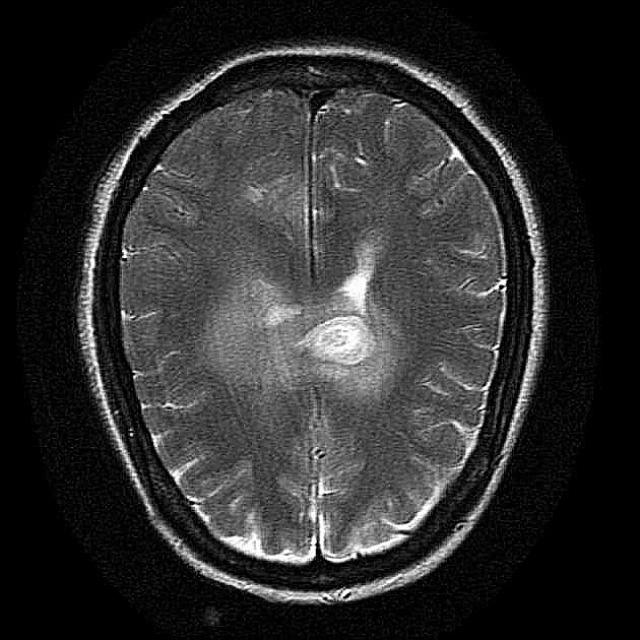Tumor-Cell: (277, 287, 409, 397)
